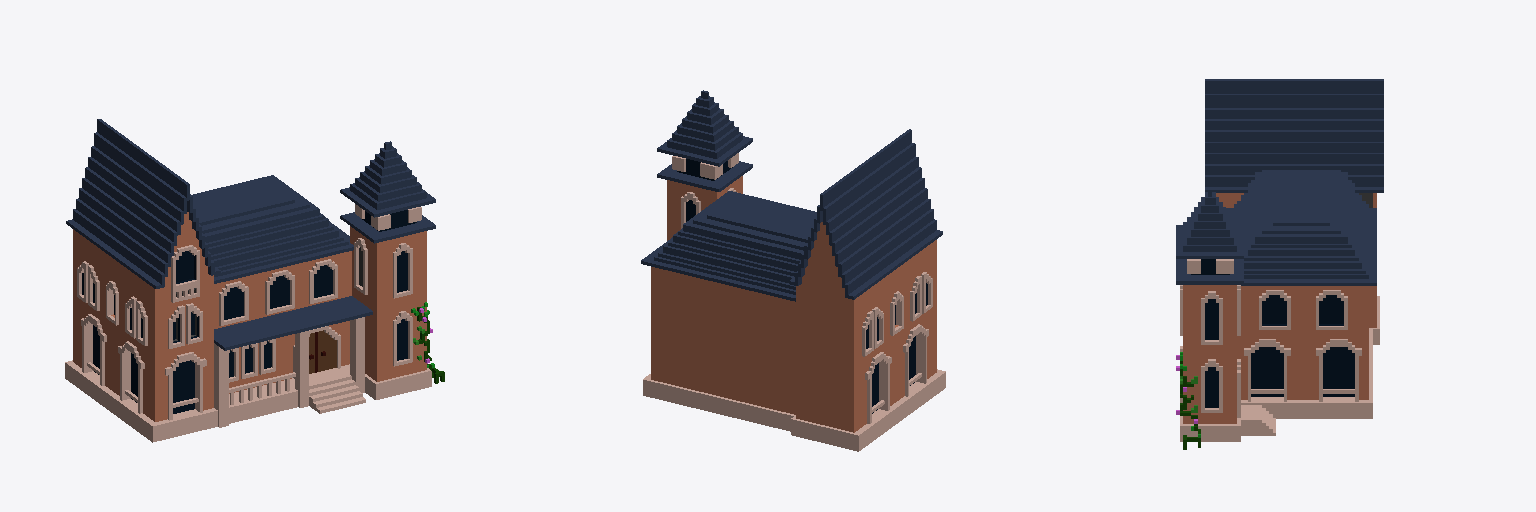
3 renders of one model, left to right at view 1: azimuth 30°, elevation 25°; view 2: azimuth 150°, elevation 25°; view 3: azimuth 270°, elevation 25°, orthographic.
Parts seen in each view (by area): view 1: object 1; view 2: object 1; view 3: object 1.
Part boxes in pixels (left/top/right/bottom): object 1: left=65, top=119, right=444, bottom=442; object 1: left=641, top=90, right=945, bottom=451; object 1: left=1176, top=79, right=1383, bottom=449.
Bounding box in the file's own units: 9.1 × 7.7 × 5.8.
Materials: 1 (1 with a texture image).